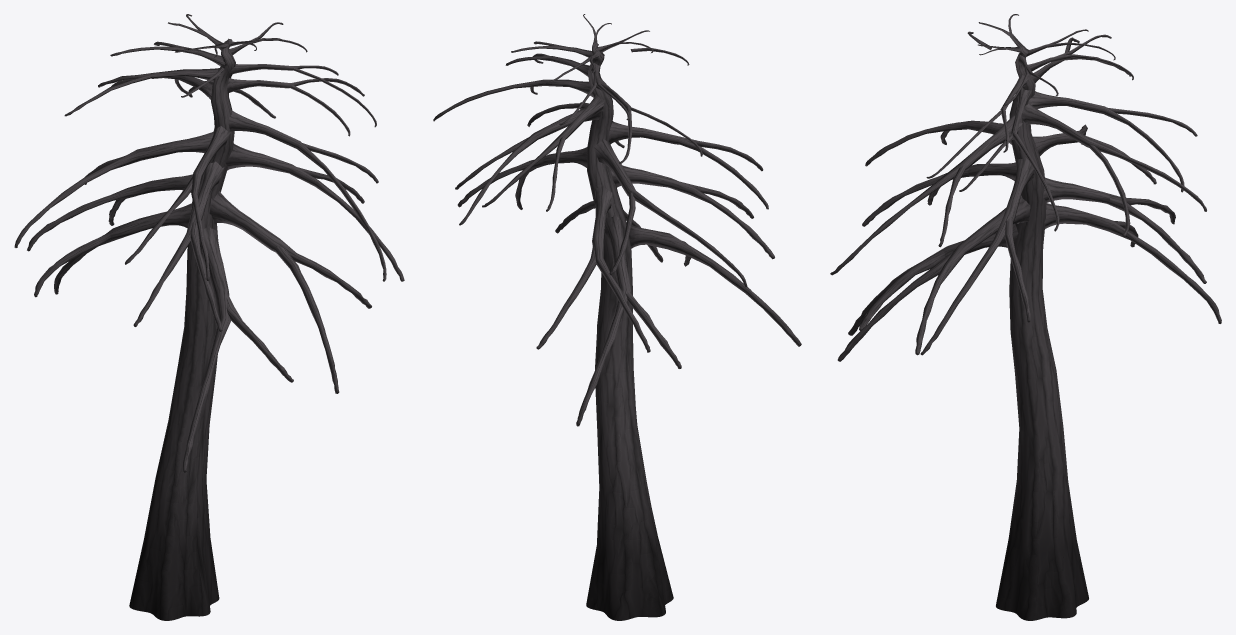
Rendered from Nature_DeadTree_4.glb.
3 renders of one model, left to right at view 1: azimuth 30°, elevation 25°; view 2: azimuth 150°, elevation 25°; view 3: azimuth 270°, elevation 25°, orthographic. The views are drawn at different scales.
Parts seen in each view (by area): view 1: DeadTree_4; view 2: DeadTree_4; view 3: DeadTree_4.
Part boxes in pixels (x1,y1,x2,y2): DeadTree_4: [14, 14, 404, 620]; DeadTree_4: [433, 14, 801, 620]; DeadTree_4: [830, 14, 1221, 620].
Bounding box in the file's own units: 7.96 × 12.77 × 7.73.
Materials: 1 (1 with a texture image).
